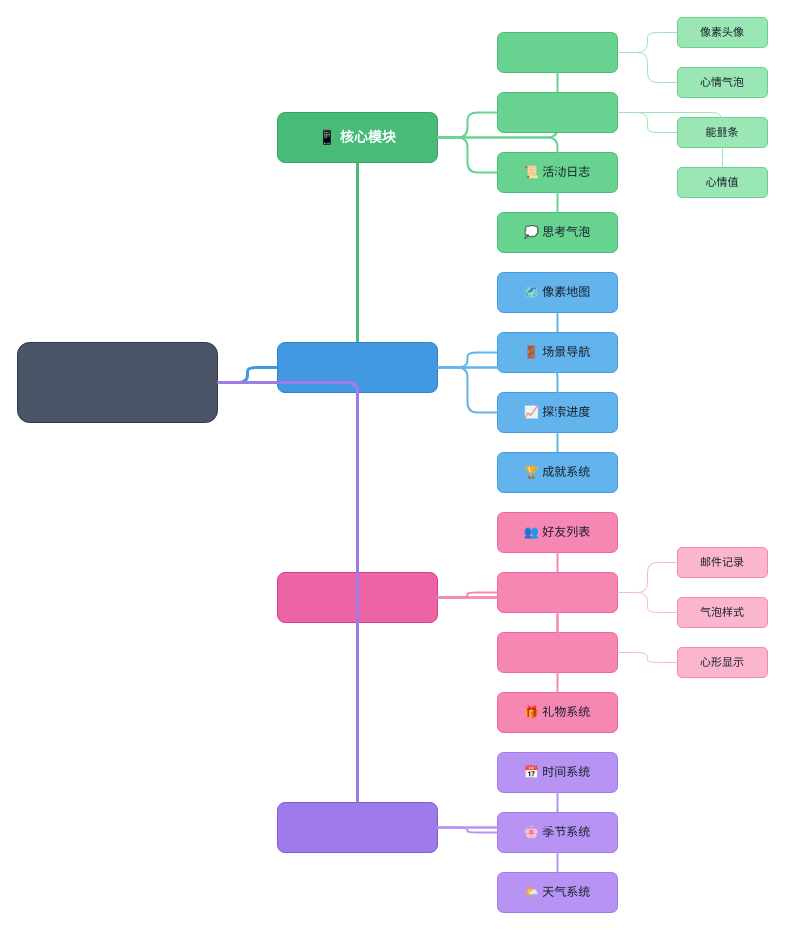
Image size: 785x930. Some labels were removed from this diagram. Each missing label, with the centre of its shape:
"⏰ 时间环境" belongs at (357,827).
"❤️ 好感度" belongs at (557,652).
"🎮 Power's World 星露谷风格可视化" belongs at (117,382).
"👤 人物卡片" belongs at (557,52).
"💕 社交模块" belongs at (357,597).
"💬 对话系统" belongs at (557,592).
"📊 状态系统" belongs at (557,112).
"🗺️ 探索模块" belongs at (357,367).
